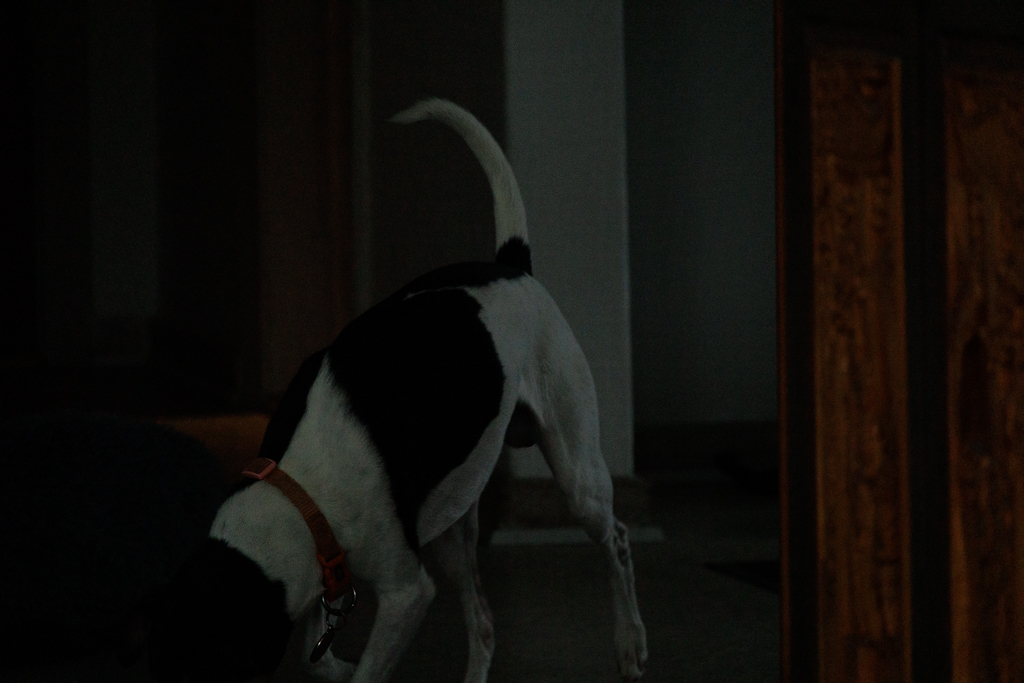Dog: (111, 88, 663, 683)
